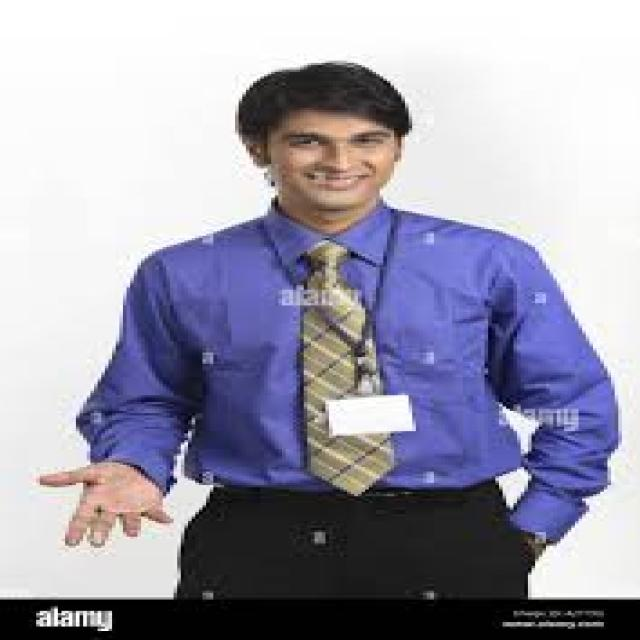id_card: (266, 225, 428, 436)
